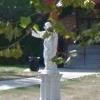Statue: (21, 15, 71, 79)
